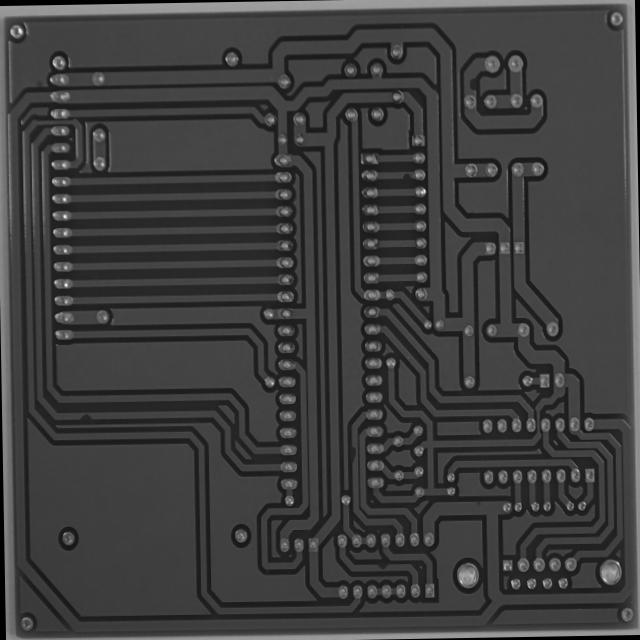mouse_bite: (76, 406, 94, 426), (465, 74, 480, 94), (374, 560, 392, 573), (348, 444, 358, 466), (400, 170, 413, 182)
